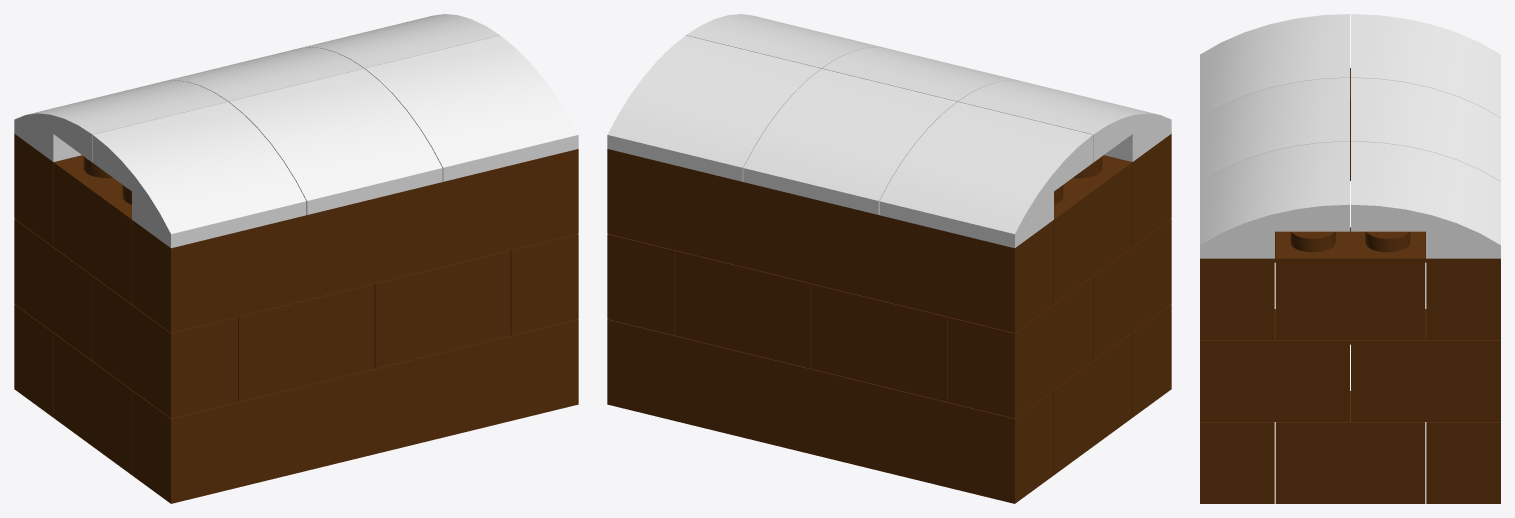
The model's file is build.glb.
3 views of the same model, side by side, from view 1: azimuth 30°, elevation 25°; view 2: azimuth 150°, elevation 25°; view 3: azimuth 270°, elevation 25° (orthographic). The views are drawn at different scales.
Parts seen in each view (by area): view 1: 3009.dat (×4), 15068.dat (×6), 3004.dat (×7); view 2: 3009.dat (×4), 15068.dat (×6), 3004.dat (×7); view 3: 15068.dat (×6), 3004.dat (×4), 3009.dat (×4).
Part boxes in pixels (left/top/right/bottom): 3009.dat (×4): left=14, top=134, right=578, bottom=503; 15068.dat (×6): left=14, top=14, right=578, bottom=248; 3004.dat (×7): left=14, top=155, right=578, bottom=474; 3009.dat (×4): left=607, top=134, right=1171, bottom=503; 15068.dat (×6): left=607, top=14, right=1171, bottom=248; 3004.dat (×7): left=607, top=155, right=1171, bottom=474; 15068.dat (×6): left=1200, top=14, right=1500, bottom=258; 3004.dat (×4): left=1200, top=227, right=1500, bottom=503; 3009.dat (×4): left=1200, top=258, right=1500, bottom=503.
Bounding box in the file's own units: 0.0479 × 0.0351 × 0.0319.
